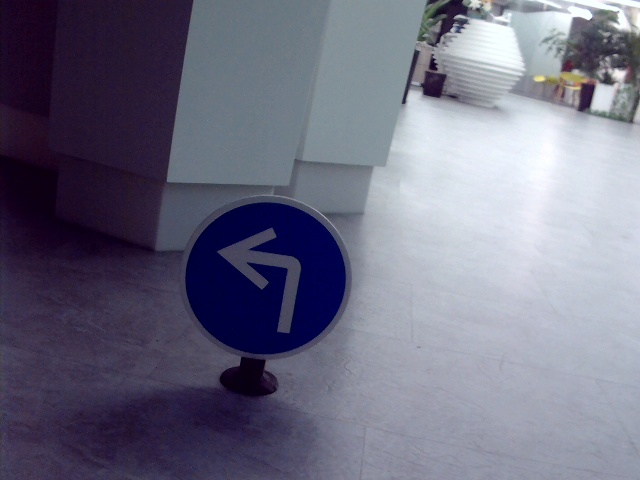turn_left: (212, 223, 313, 337)
